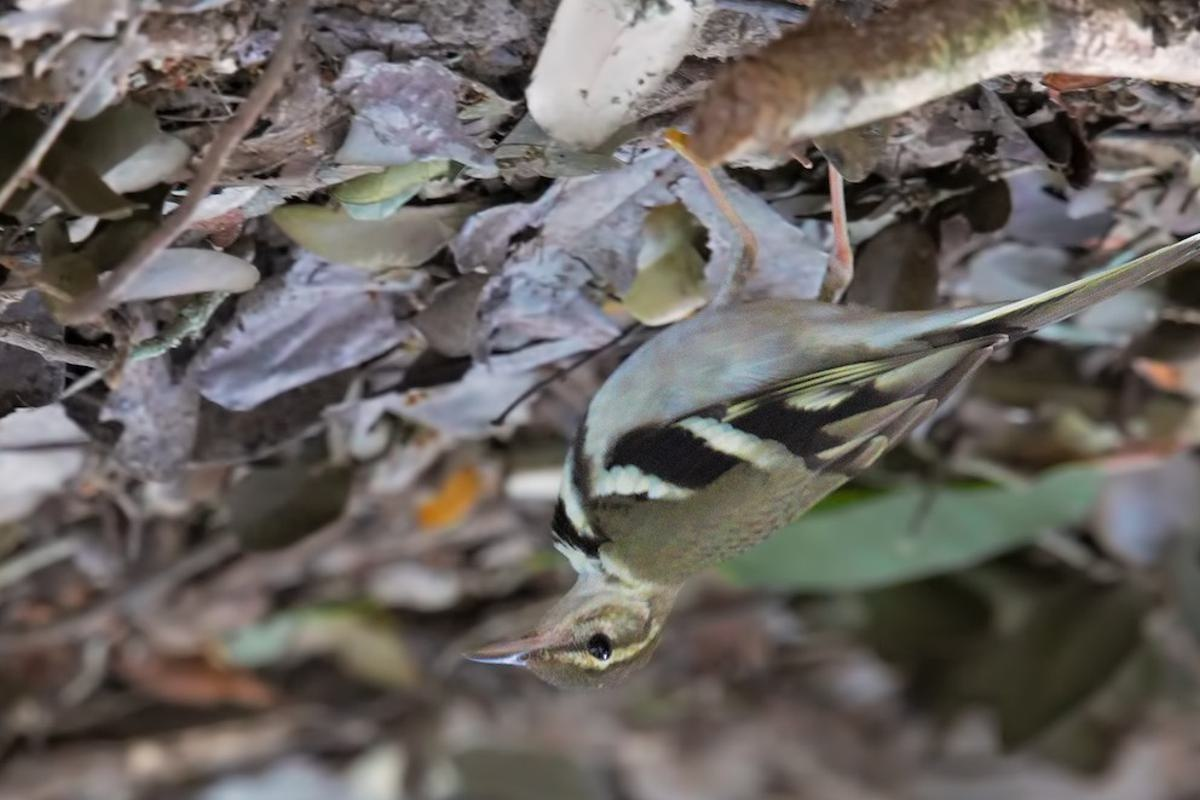wagtail: (440, 222, 1168, 683)
